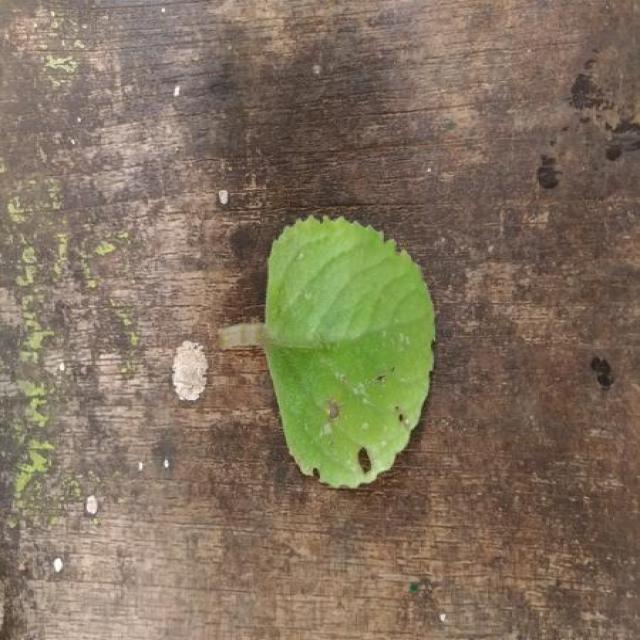doddpathre: (218, 216, 433, 488)
